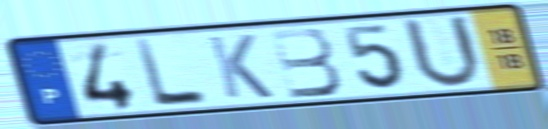4: (79, 39, 137, 112)
5: (341, 21, 408, 93)
B: (267, 25, 346, 101)
K: (204, 32, 277, 101)
L: (131, 37, 212, 110)
U: (397, 13, 485, 92)
